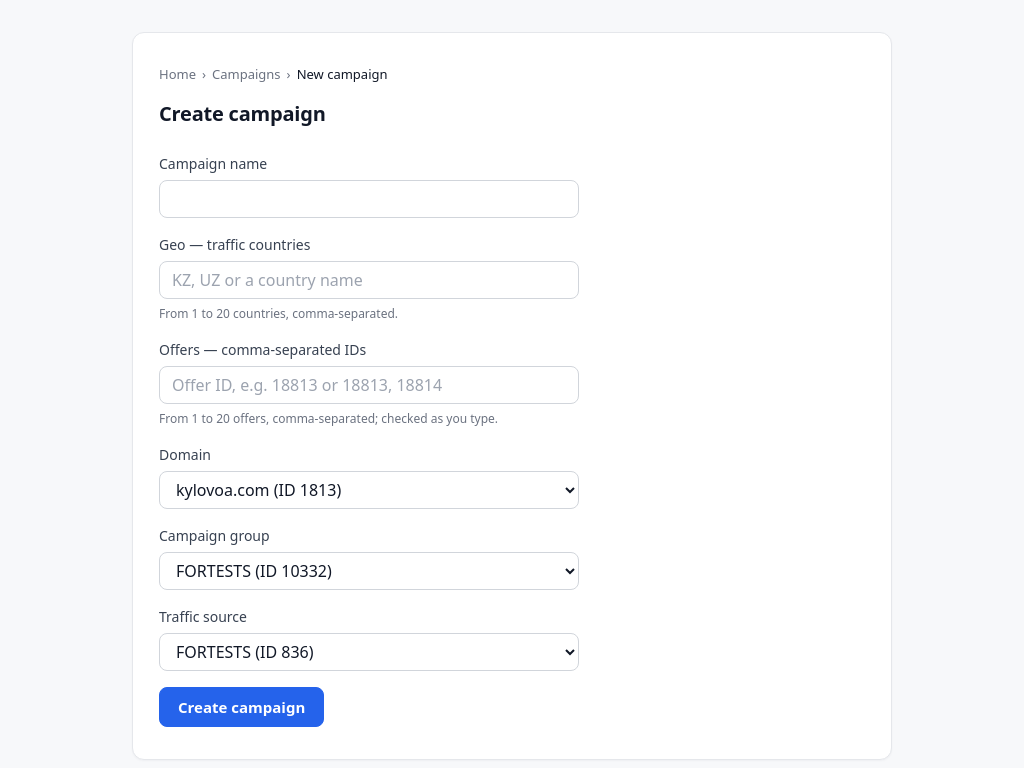
NewCampaignPage — validation › offer is not a number or zero: inline error, no request; chip not added
Expected: the dropdown with id "campaign-domain" shows "kylovoa.com (ID 1813)", [159,470,579,508]
Type "abc" into the field with id "offer-input" at [369, 384], box [159,366,579,404]
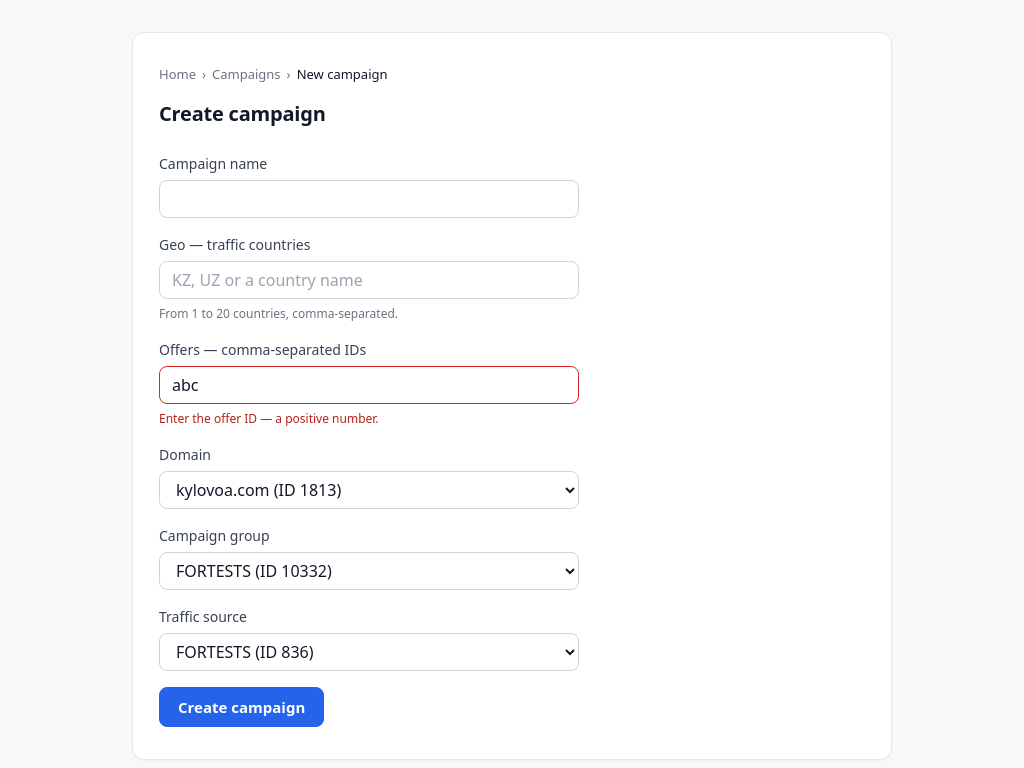
Result: the text "Enter the offer ID — a positive number." is shown at [159,410,378,426]
Press Enter in the field with id "offer-input", box [159,366,579,404]
Replace the text in the field with id "offer-input" with "0" at [369, 384], box [159,366,579,404]
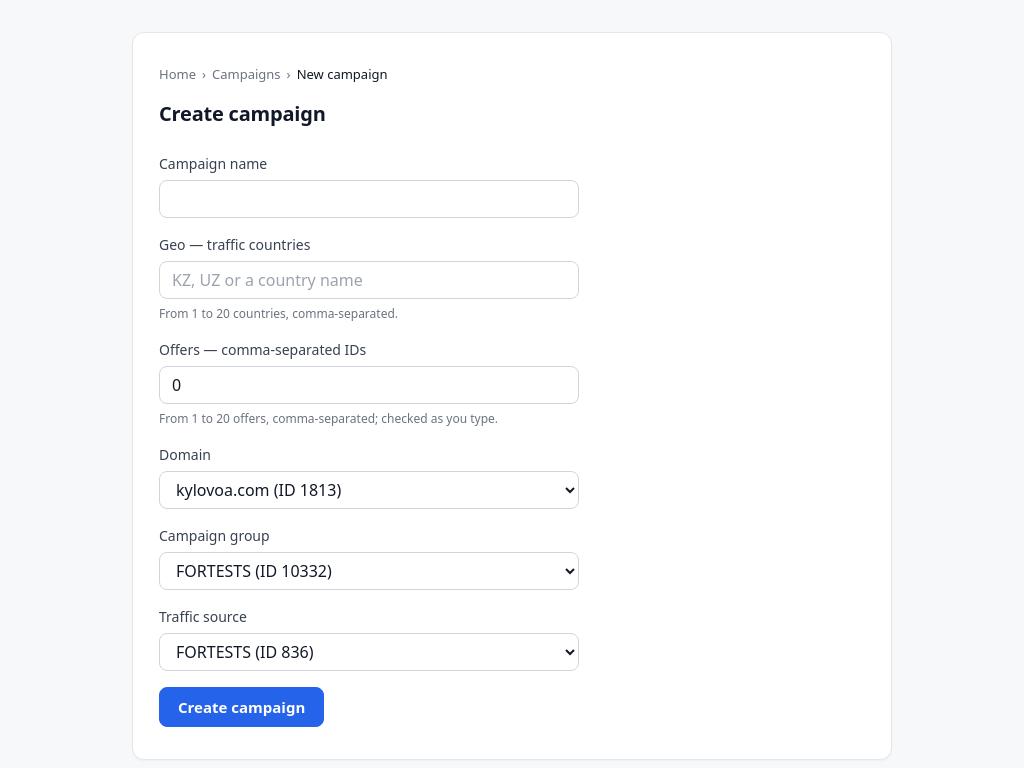
Press Enter in the field with id "offer-input", box [159,366,579,404]
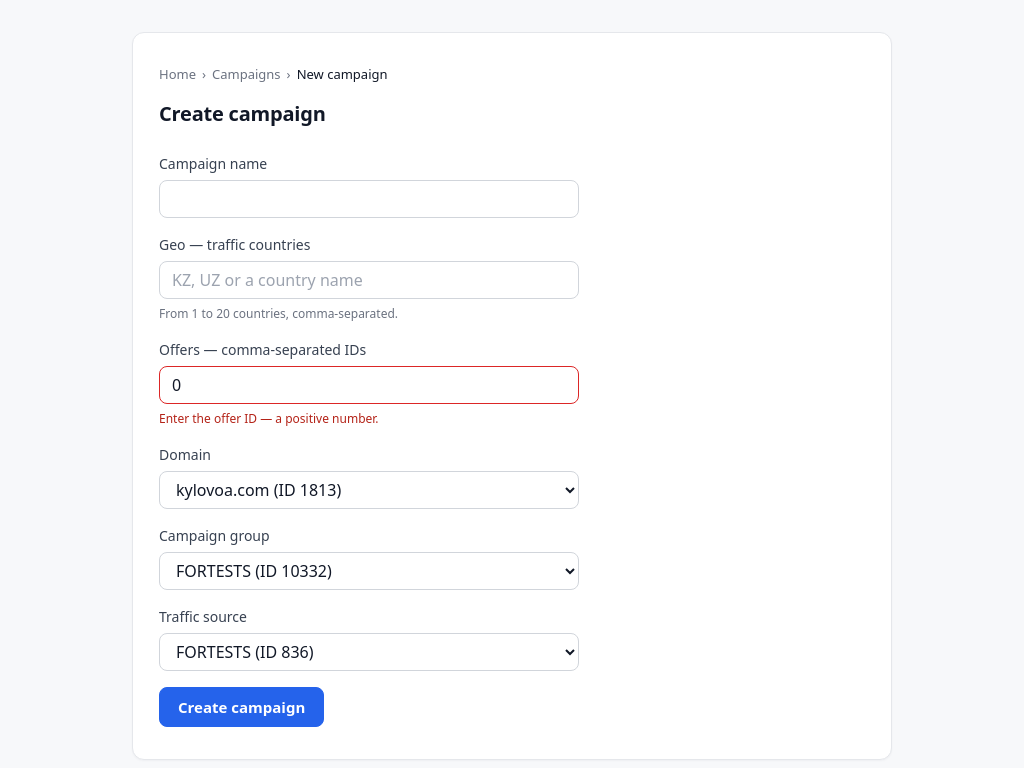
Result: the text "Enter the offer ID — a positive number." is shown at [159,410,378,426]
the rest of the form is valid so the error stops on the offers
Type "leo_kz" into the field with id "campaign-name" at [369, 198], box [159,180,579,218]
Type "KZ" into the dropdown with id "geo-input" at [369, 280], box [159,260,579,298]
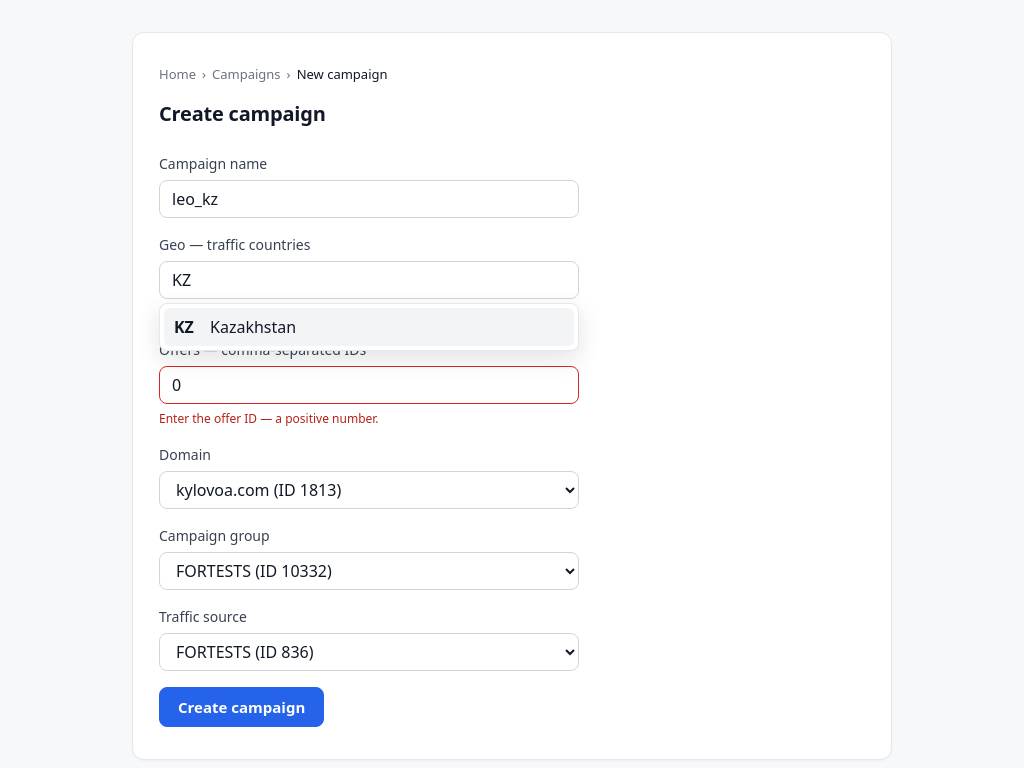
Press Enter in the dropdown with id "geo-input", box [159,260,579,298]
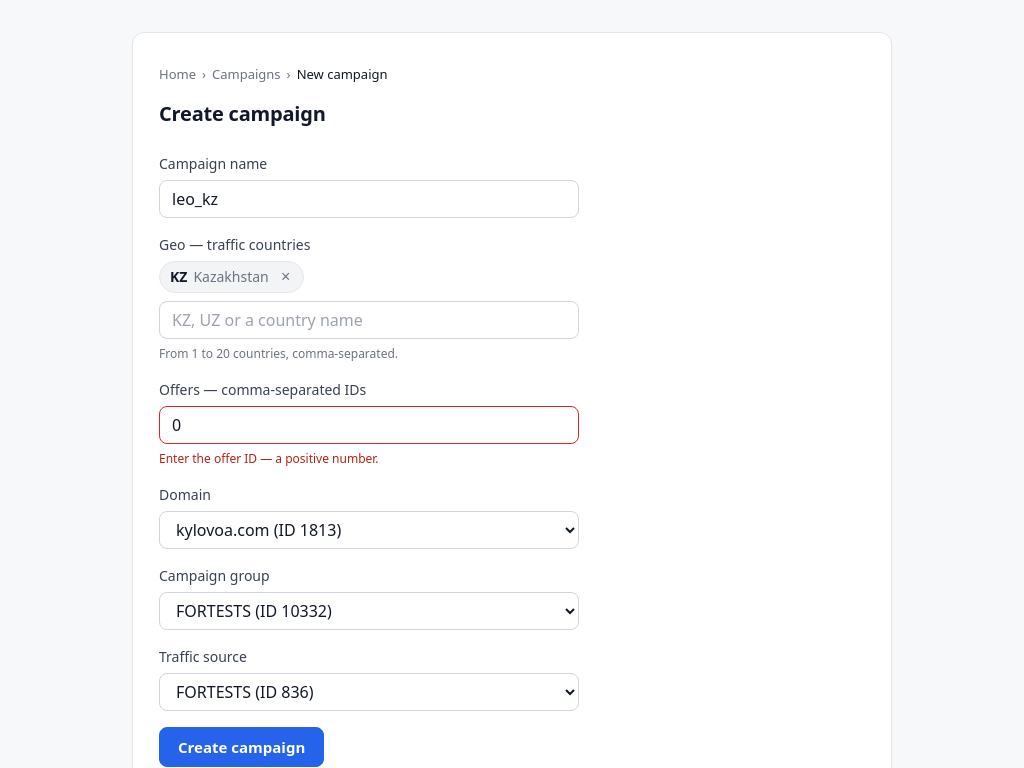
Click the button "Create campaign" at [242, 746], box [159,726,324,766]
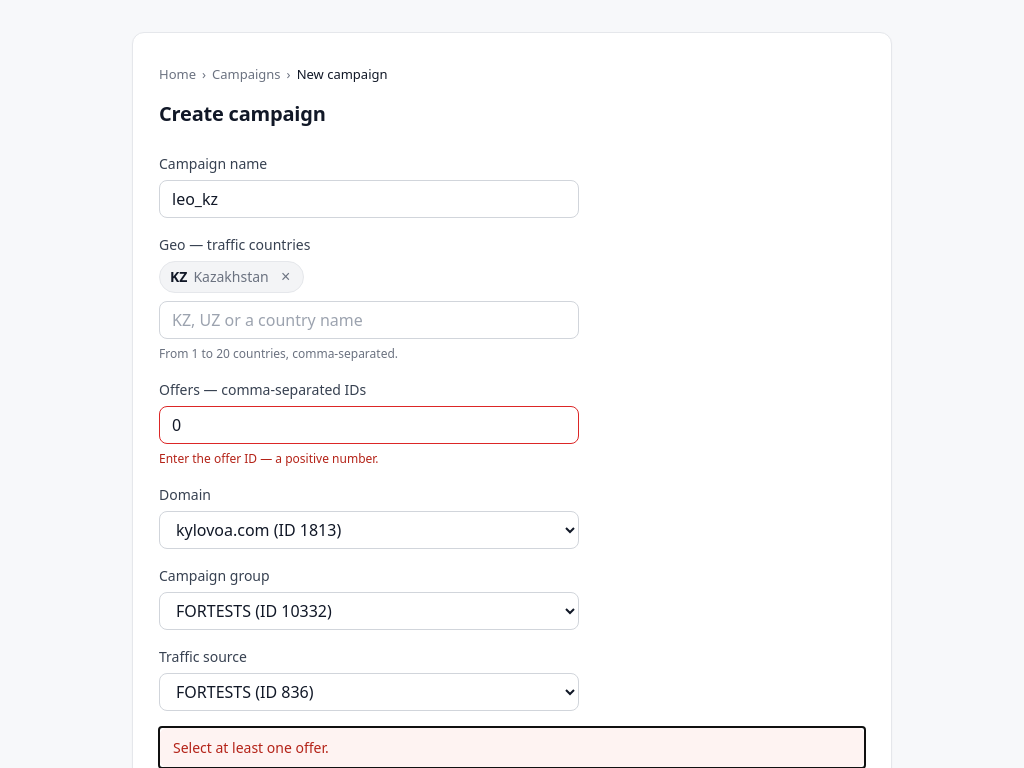
Result: the message "Select at least one offer." is shown at [159,726,865,767]
